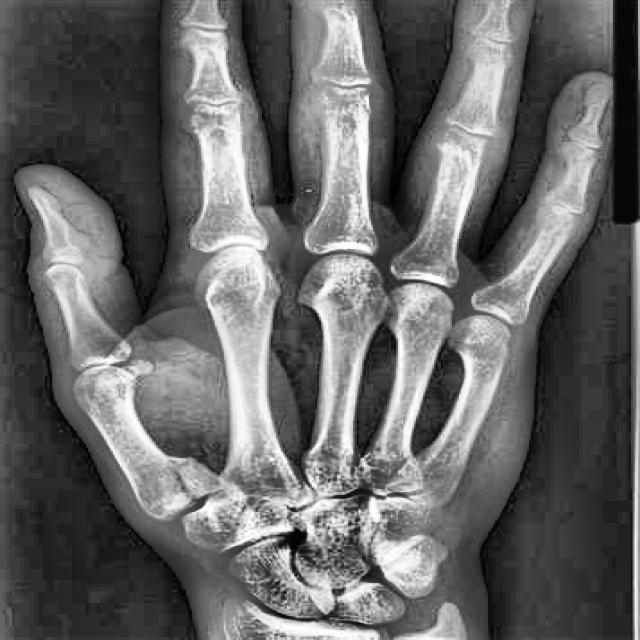fracture: (165, 462, 197, 505)
